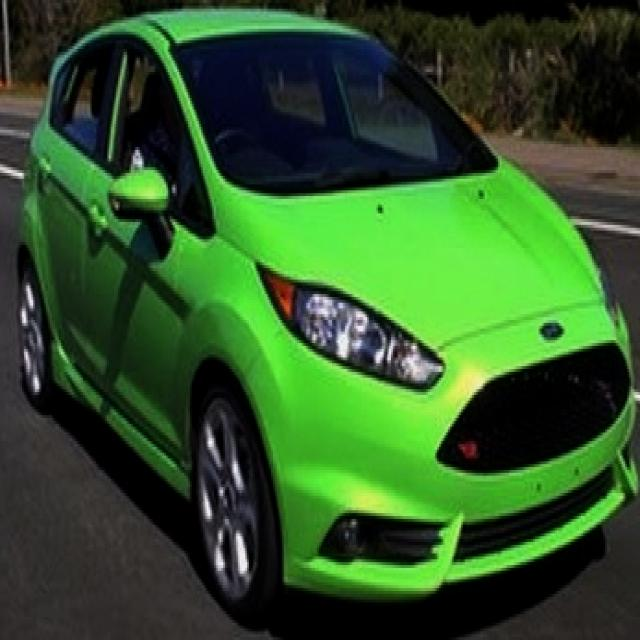green: (16, 6, 640, 622)
